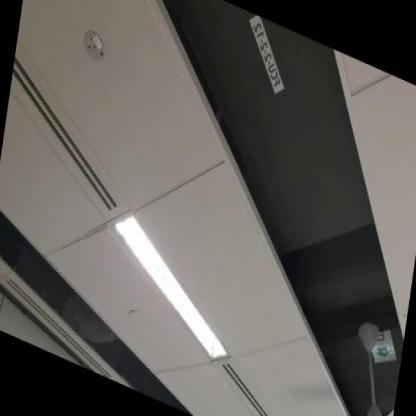light_on: (93, 189, 245, 376)
